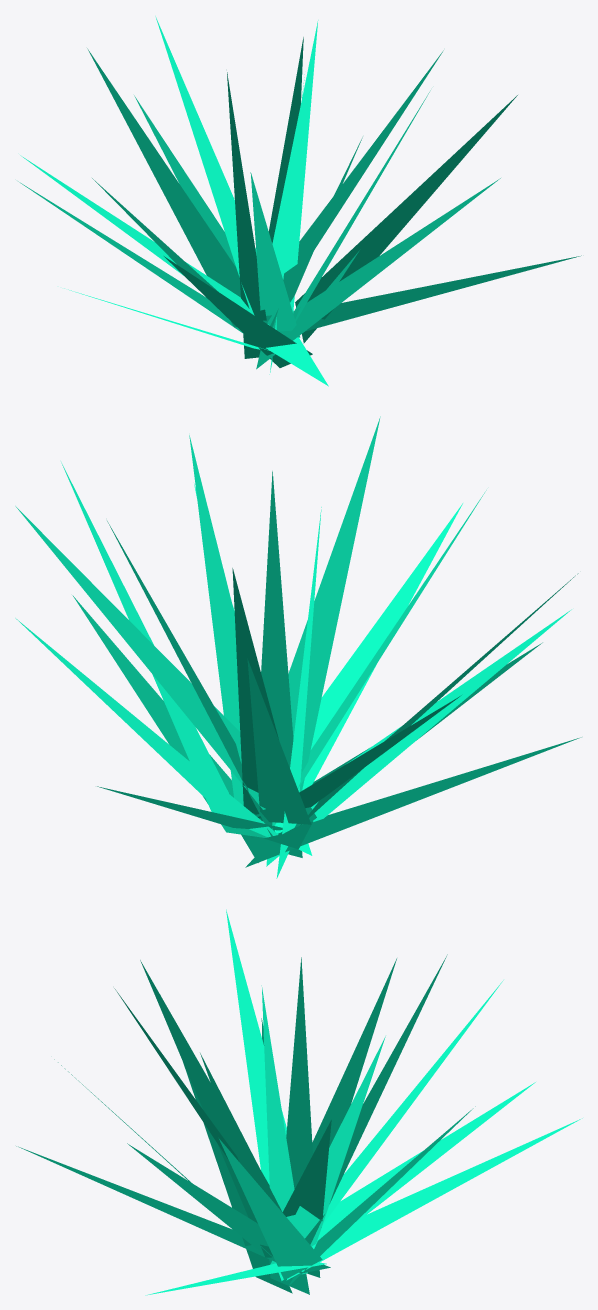
File: Agave_LOD3.obj
3 views of the same model, one above another, from view 1: azimuth 30°, elevation 25°; view 2: azimuth 150°, elevation 25°; view 3: azimuth 270°, elevation 25° (orthographic). The views are drawn at different scales.
Parts seen in each view (by area): view 1: Agave_LOD3; view 2: Agave_LOD3; view 3: Agave_LOD3.
Part boxes in pixels (x1,y1,x2,y2): Agave_LOD3: (18,16,581,386); Agave_LOD3: (15,416,581,878); Agave_LOD3: (16,909,582,1295).
Size of the model in its own units: 179 by 112 by 183.
